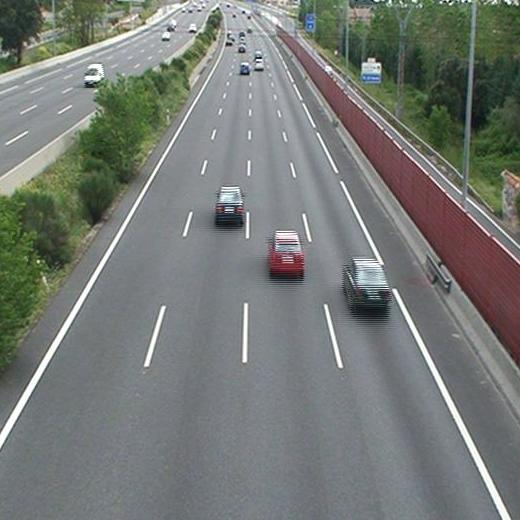car: (344, 258, 389, 306), (269, 231, 303, 271), (216, 187, 244, 221), (253, 58, 265, 70), (240, 63, 251, 74)
